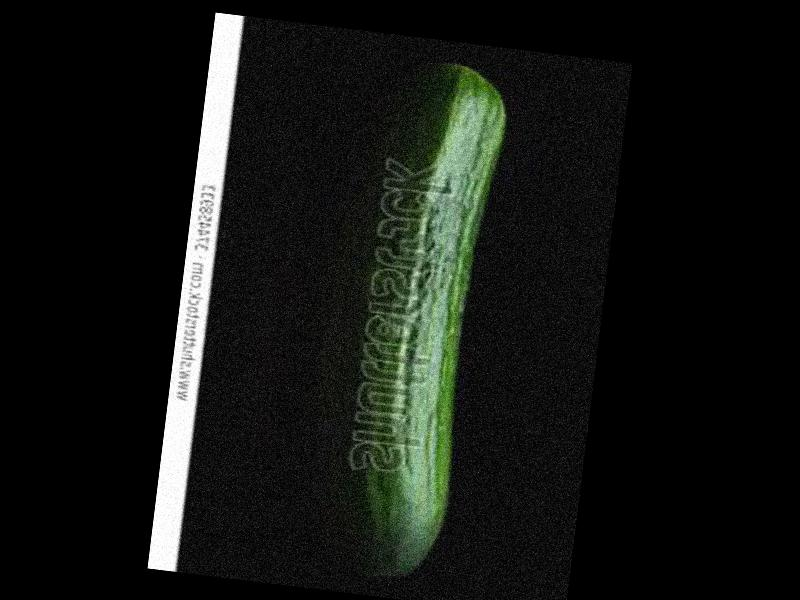Cucumber: (330, 53, 509, 583)
